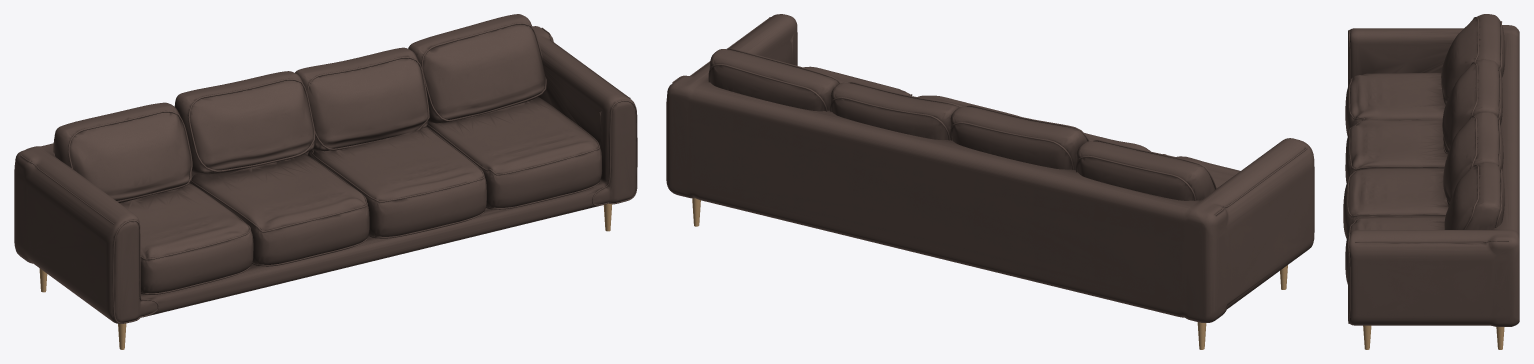
File: cuero-chocolate.gltf
The picture shows the model from 3 angles, left to right: view 1: azimuth 30°, elevation 25°; view 2: azimuth 150°, elevation 25°; view 3: azimuth 270°, elevation 25°; orthographic projection. The views are drawn at different scales.
Visible parts, largest first — view 1: tela_ar, madera_ar; view 2: tela_ar, madera_ar; view 3: tela_ar, madera_ar.
Boxes of the visible parts, x1,y1,x2,y2 form: tela_ar: (14, 14, 637, 323); madera_ar: (39, 203, 612, 349); tela_ar: (666, 14, 1314, 322); madera_ar: (692, 198, 1287, 349); tela_ar: (1343, 14, 1519, 326); madera_ar: (1363, 325, 1504, 349).
Bounding box in the file's own units: 2.7 × 0.8297 × 0.9224.
2 materials, 2 textured.
